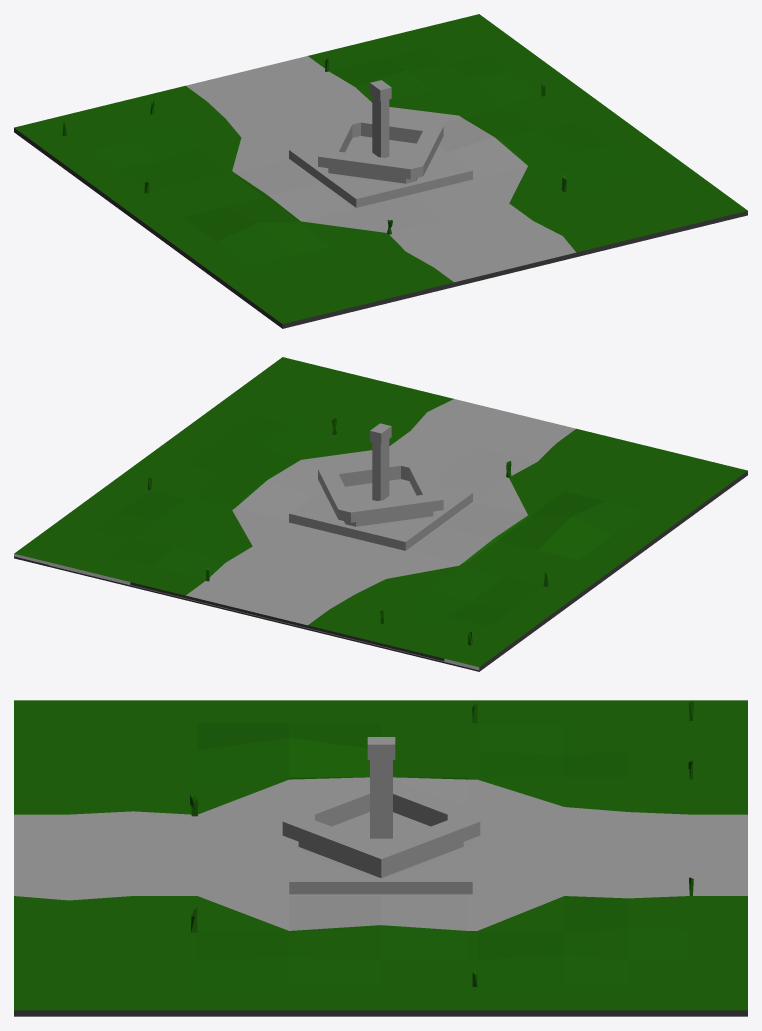
The model's file is fountain_lane_map.fbx.
3 renders of one model, top to bottom at view 1: azimuth 30°, elevation 25°; view 2: azimuth 150°, elevation 25°; view 3: azimuth 270°, elevation 25°, orthographic. The views are drawn at different scales.
Parts seen in each view (by area): view 1: Cube; view 2: Cube; view 3: Cube.
Part boxes in pixels (bbox=[...]): Cube: bbox=[14, 14, 747, 328]; Cube: bbox=[14, 357, 747, 671]; Cube: bbox=[14, 700, 747, 1016].
Bounding box in the file's own units: 40 × 7.27 × 40.
